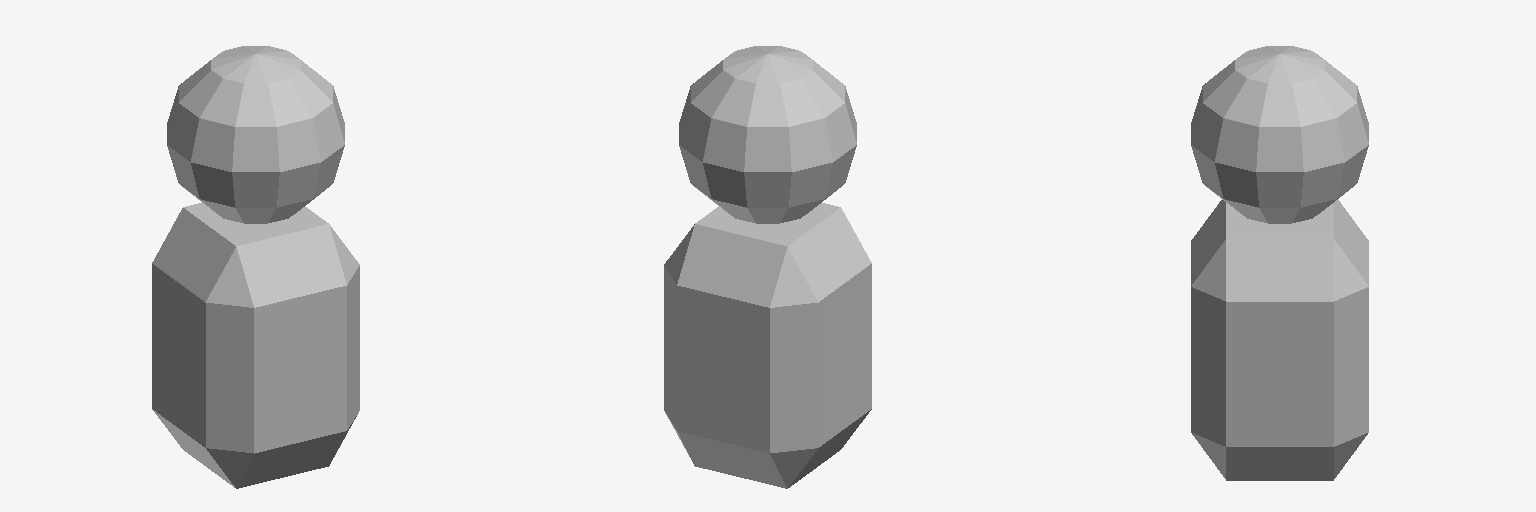
The model's file is infantry.obj.
The picture shows the model from 3 angles: view 1: azimuth 30°, elevation 25°; view 2: azimuth 150°, elevation 25°; view 3: azimuth 270°, elevation 25°; orthographic projection.
Parts seen in each view (by area): view 1: beveled_cuboid; view 2: beveled_cuboid; view 3: beveled_cuboid.
Part boxes in pixels (x1,y1,x2,y2): beveled_cuboid: (152,46,359,488); beveled_cuboid: (664,46,871,488); beveled_cuboid: (1191,46,1368,480).
Bounding box in the file's own units: 0.0625 × 0.1562 × 0.0625.